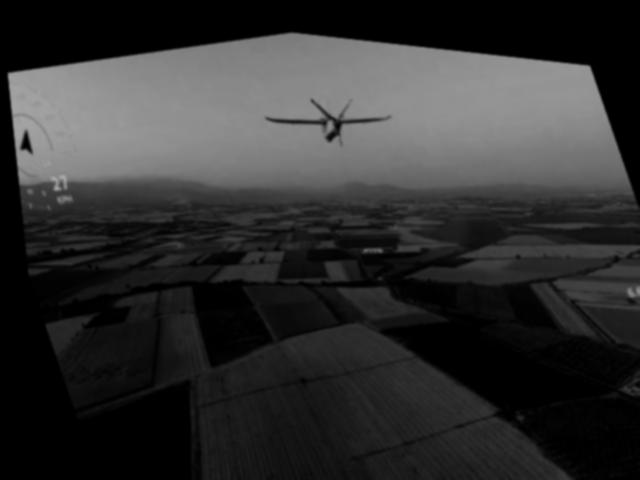hedef: (252, 57, 412, 176)
